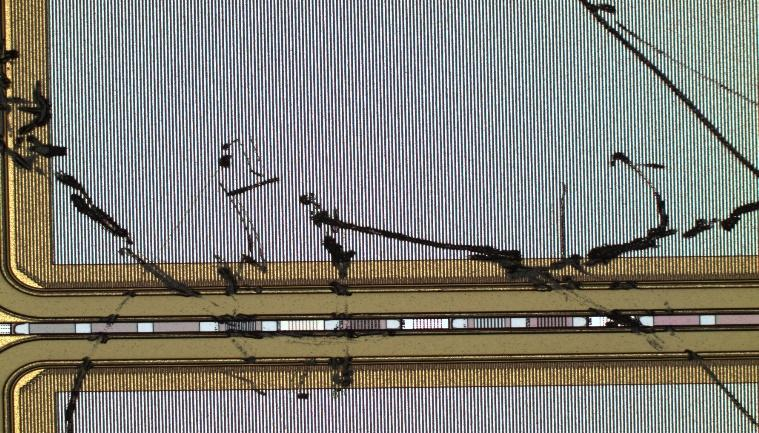SCRATCH: (1, 1, 759, 433)
